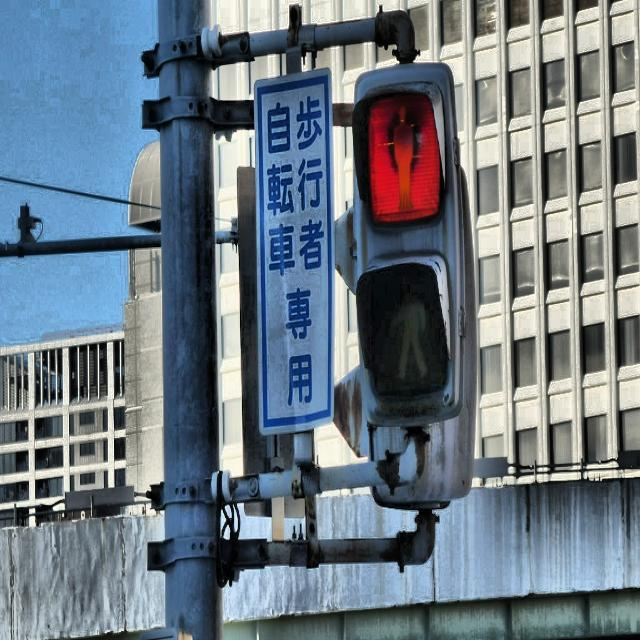red_light: (388, 95, 418, 217)
